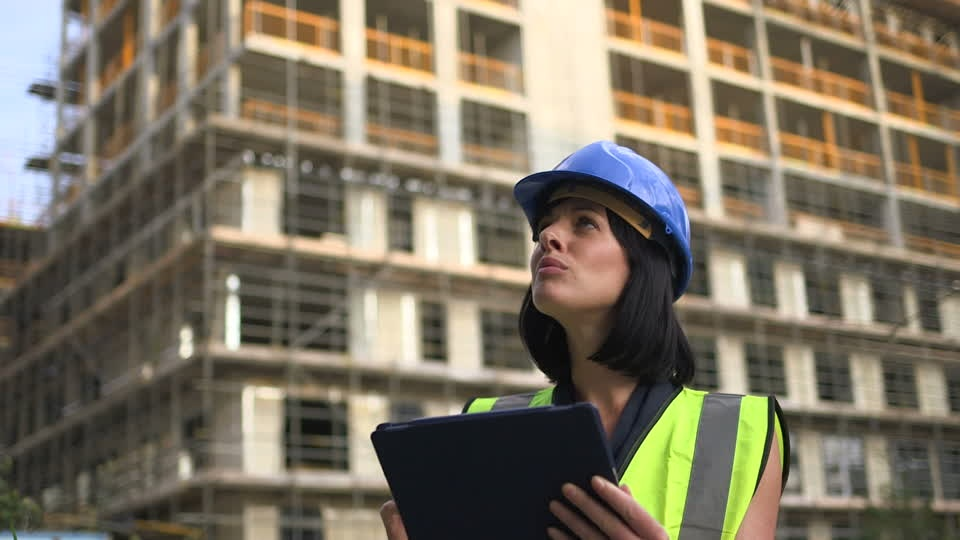blue: (516, 130, 705, 360)
